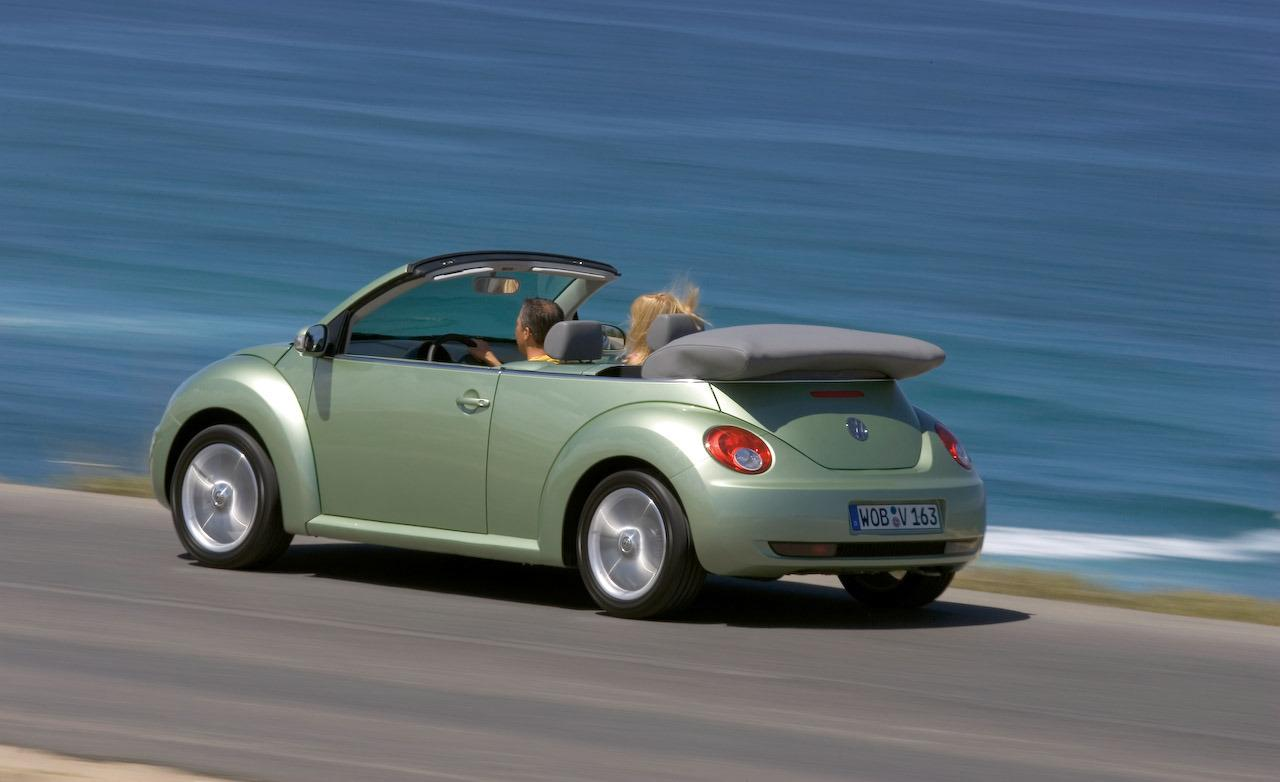back_view: (2, 36, 153, 157)
backlight: (47, 43, 149, 81)
side_glass: (165, 3, 327, 55)
